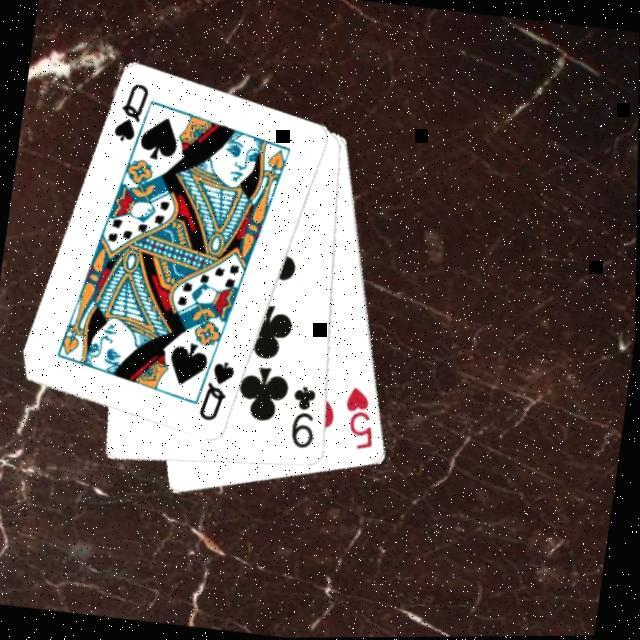5H: (336, 384, 383, 456)
9C: (282, 383, 323, 454)
QS: (193, 357, 238, 429), (106, 81, 151, 149)
